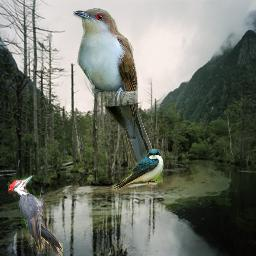Cuckoo: (73, 8, 163, 184)
Swallow: (112, 149, 164, 190)
Woodpecker: (8, 175, 63, 256)
